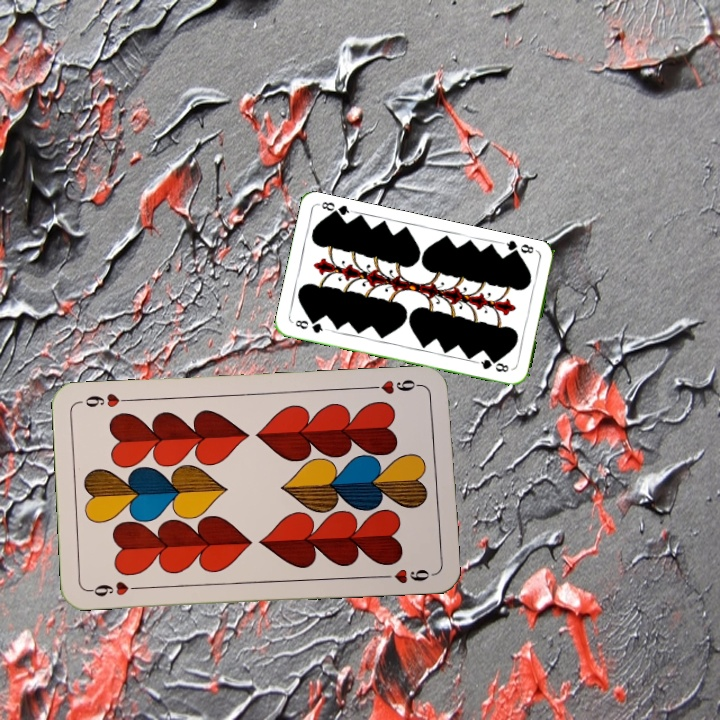G8: (499, 237, 536, 259), (291, 316, 329, 336)
H9: (85, 577, 144, 599), (366, 375, 425, 397)
